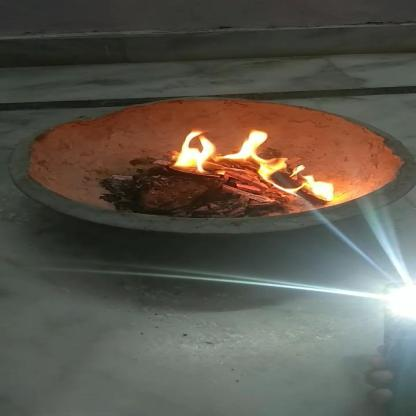fire: (172, 127, 291, 183), (290, 166, 342, 202)
